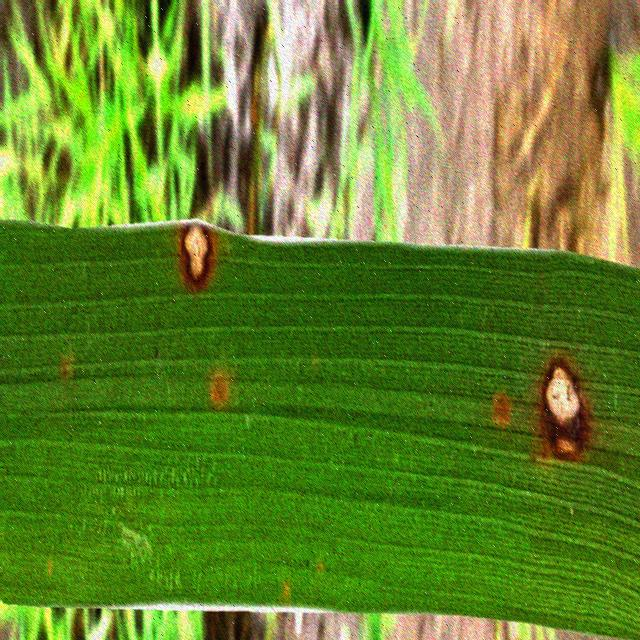LEAF BLAST: (542, 358, 588, 459), (178, 221, 216, 292)
